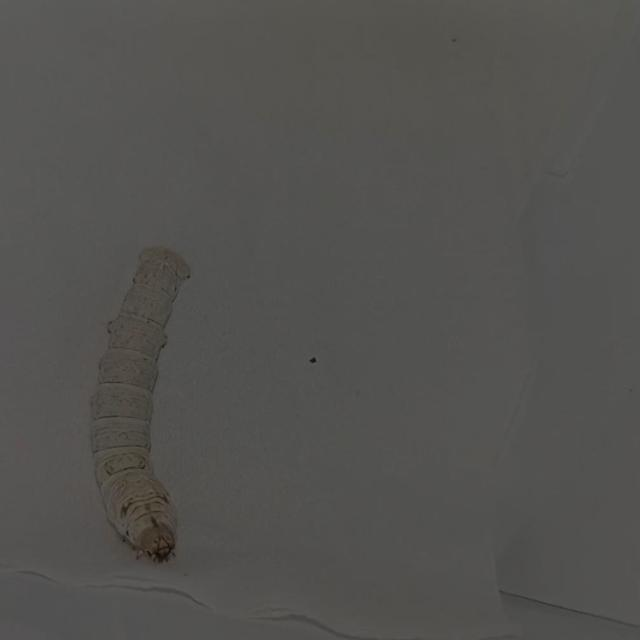Healthy: (61, 223, 234, 594)
